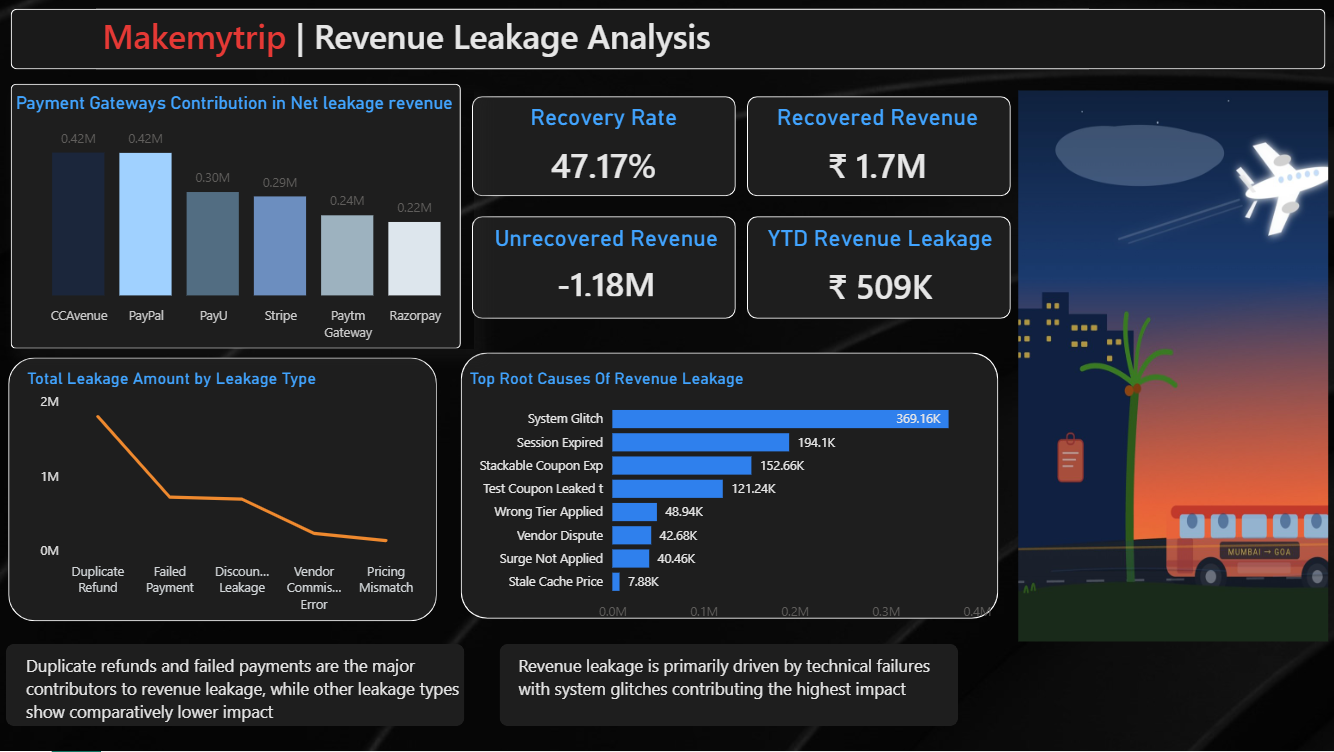

The page's visual inventory and layout, read from the dashboard file:
{"tool":"powerbi","page":{"name":"Page 1","canvas":[1280,720],"ordinal":0},"visuals":[{"type":"shape","box":[12.7,12.7,1252.1,57.7],"z":0},{"type":"shape","box":[452.4,96.4,251.2,95.2],"z":1000},{"type":"shape","box":[714.3,96.4,251.2,95.2],"z":2000},{"type":"shape","box":[452.4,210.7,251.2,97.6],"z":3000},{"type":"textbox","box":[94.7,12.3,945.5,64.5],"z":4000},{"type":"shape","box":[714.3,210.7,251.2,97.6],"z":5000},{"type":"cardVisual","title":"YTD Revenue Leakage","fields":{"Data":["LeakageData.YTD Revene Leak"]},"box":[728.6,219,225,89.3],"z":6000},{"type":"cardVisual","title":"Recovered Revenue","fields":{"Data":["LeakageData.Recovered Revenue"]},"box":[736.9,103.6,203.6,88.1],"z":7000},{"type":"cardVisual","title":"Recovery Rate","fields":{"Data":["LeakageData.Recovery rate"]},"box":[476.2,103.6,203.6,89.3],"z":8000},{"type":"cardVisual","title":"Unrecovered Revenue","fields":{"Data":["LeakageData.Net Revenue at risk"]},"box":[452.4,219,256,85.7],"z":9000},{"type":"shape","box":[441.7,340.5,511.9,253.6],"z":10000},{"type":"clusteredBarChart","title":"Top Root Causes Of Revenue Leakage","fields":{"Y":["LeakageData.Total Leakage Amount"],"Category":["LeakageData.Root Cause"]},"box":[445.2,356,527.4,250],"z":11000},{"type":"shape","box":[10.7,345.2,408.3,251.2],"z":12000},{"type":"shape","box":[13.1,84.5,428.6,252.4],"z":13000},{"type":"lineChart","fields":{"Category":["LeakageData.Leakage Type"],"Y":["LeakageData.Total Leakage Amount"]},"box":[23.8,356,383.3,240.5],"z":14000},{"type":"columnChart","title":"Payment Gateways Contribution in Net leakage revenue","fields":{"Category":["LeakageData.Payment Gateway"],"Y":["Sum(LeakageData.Net Leakage INR)"]},"box":[13.1,90.5,441.7,246.4],"z":15000},{"type":"image","box":[972.6,84.5,295.2,538.1],"z":16000},{"type":"shape","box":[8.3,617.9,436.9,78.6],"z":16500},{"type":"textbox","box":[22.6,622.6,422.6,76.2],"z":17000},{"type":"shape","box":[478.6,617.9,436.9,78.6],"z":18000},{"type":"textbox","box":[491.7,622.6,423.8,69],"z":19000}]}

Visuals, with their boxes in screenshot pixels (x1, y1, x2, y2), scaled from the page's 1280x720 canvas onto the 1334x752 screenshot:
shape: [13, 13, 1318, 74]
shape: [471, 101, 733, 200]
shape: [744, 101, 1006, 200]
shape: [471, 220, 733, 322]
textbox: [99, 13, 1084, 80]
shape: [744, 220, 1006, 322]
"YTD Revenue Leakage" cardVisual: [759, 229, 994, 322]
"Recovered Revenue" cardVisual: [768, 108, 980, 200]
"Recovery Rate" cardVisual: [496, 108, 708, 201]
"Unrecovered Revenue" cardVisual: [471, 229, 738, 318]
shape: [460, 356, 994, 621]
"Top Root Causes Of Revenue Leakage" clusteredBarChart: [464, 372, 1014, 633]
shape: [11, 361, 437, 623]
shape: [14, 88, 460, 352]
lineChart - LeakageData.Leakage Type x LeakageData.Total Leakage Amount: [25, 372, 424, 623]
"Payment Gateways Contribution in Net leakage revenue" columnChart: [14, 95, 474, 352]
image: [1014, 88, 1321, 650]
shape: [9, 645, 464, 727]
textbox: [24, 650, 464, 730]
shape: [499, 645, 954, 727]
textbox: [512, 650, 954, 722]
